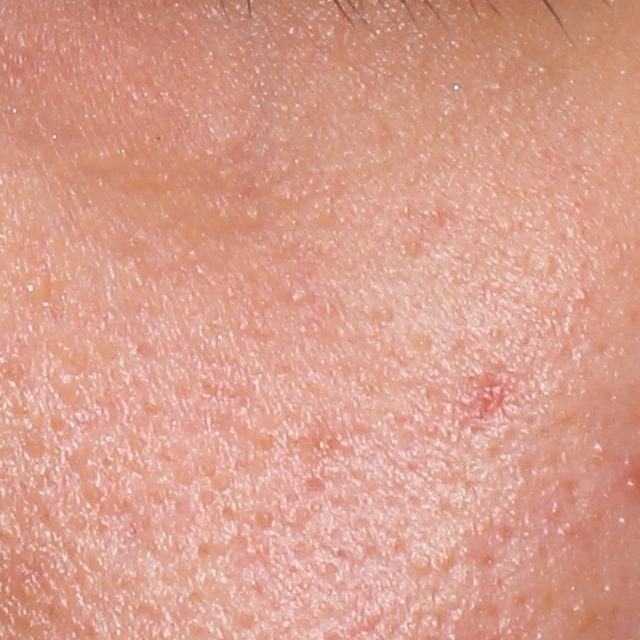comedo: (24, 270, 54, 302), (248, 507, 275, 531), (281, 285, 307, 307), (374, 305, 392, 323)
